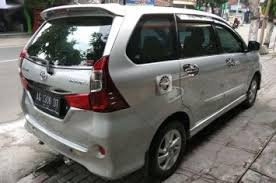mobil: (12, 3, 263, 177)
